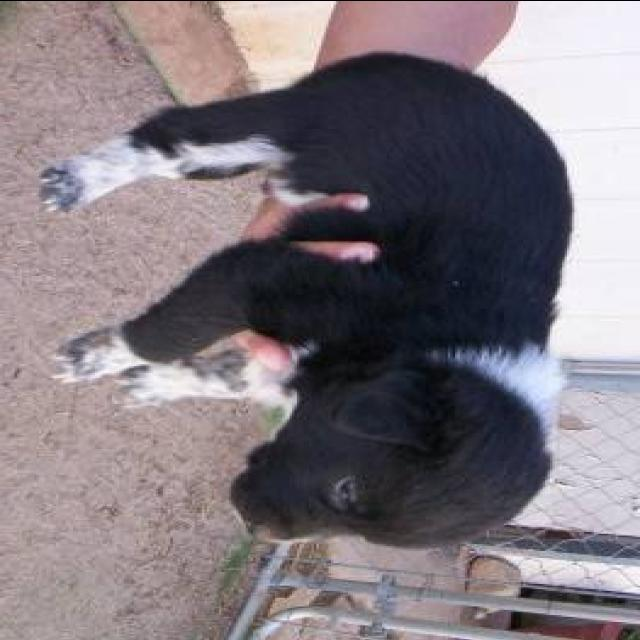dog: (34, 51, 606, 557)
